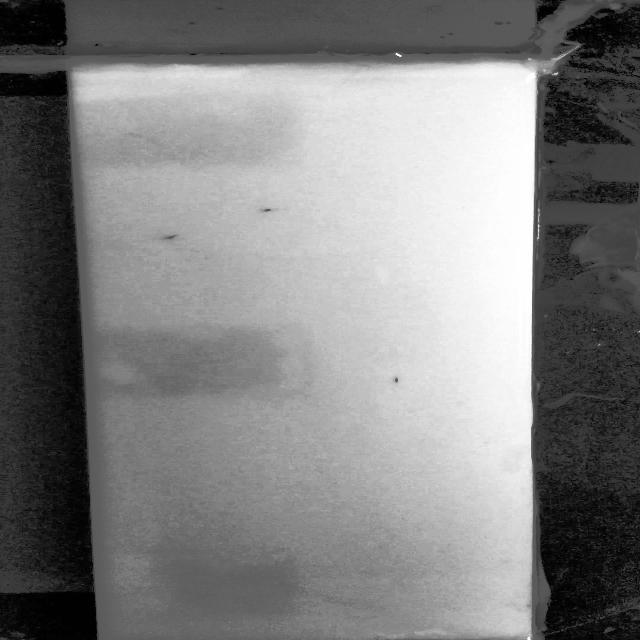shrimp: (259, 201, 283, 220), (164, 230, 184, 242), (385, 374, 406, 385)
